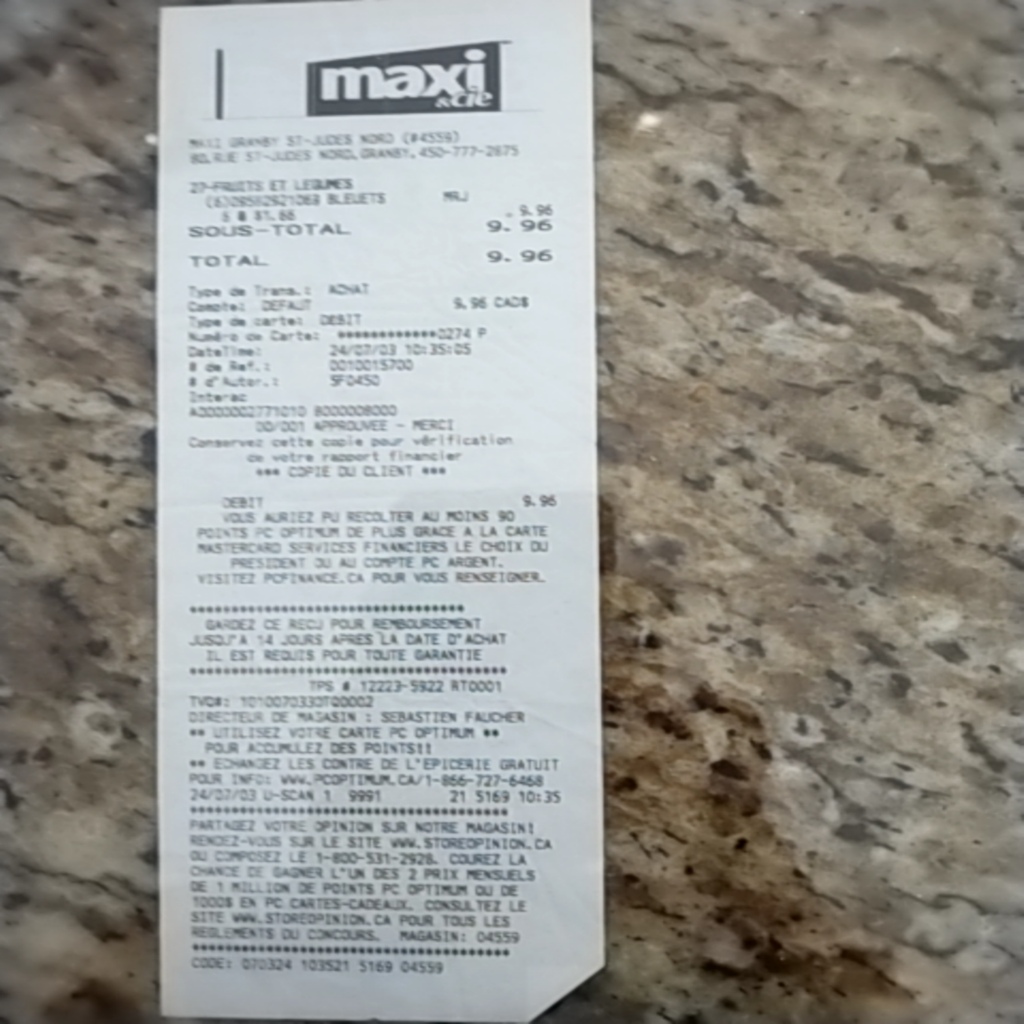recipt: (153, 0, 602, 1014)
